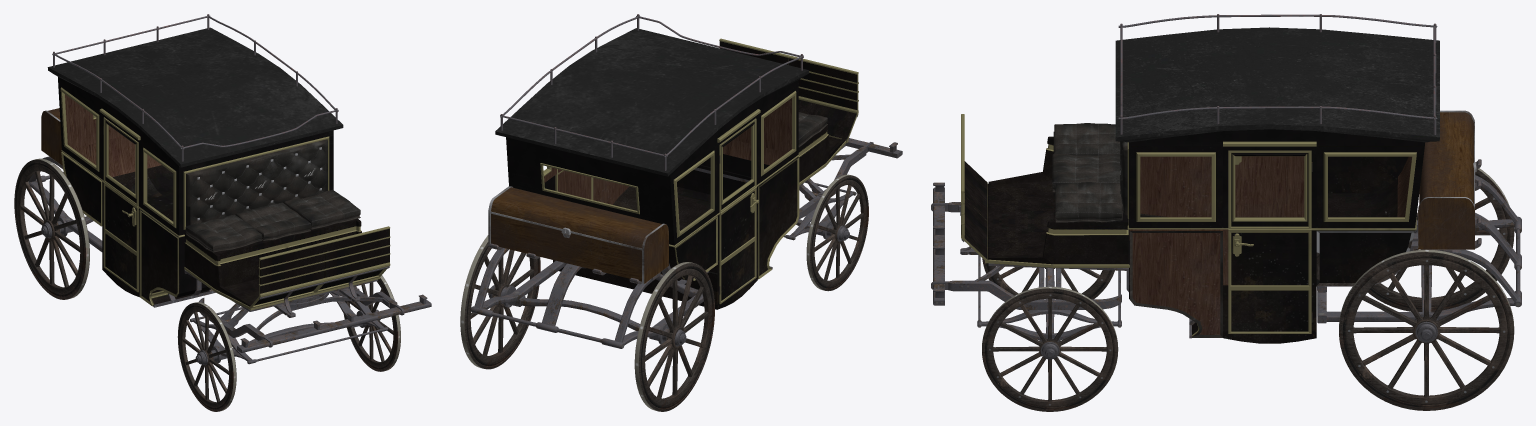
Rendered from at arabası_3.fbx.
3 renders of one model, left to right at view 1: azimuth 30°, elevation 25°; view 2: azimuth 150°, elevation 25°; view 3: azimuth 270°, elevation 25°, orthographic. The views are drawn at different scales.
Visible parts, largest first — view 1: Metal; view 2: Metal; view 3: Metal.
Boxes of the visible parts, box(x1,y1,x2,y2) form: Metal: box(14, 14, 431, 411); Metal: box(460, 14, 902, 411); Metal: box(931, 14, 1521, 411).
Bounding box in the file's own units: 203 × 252 × 448.
